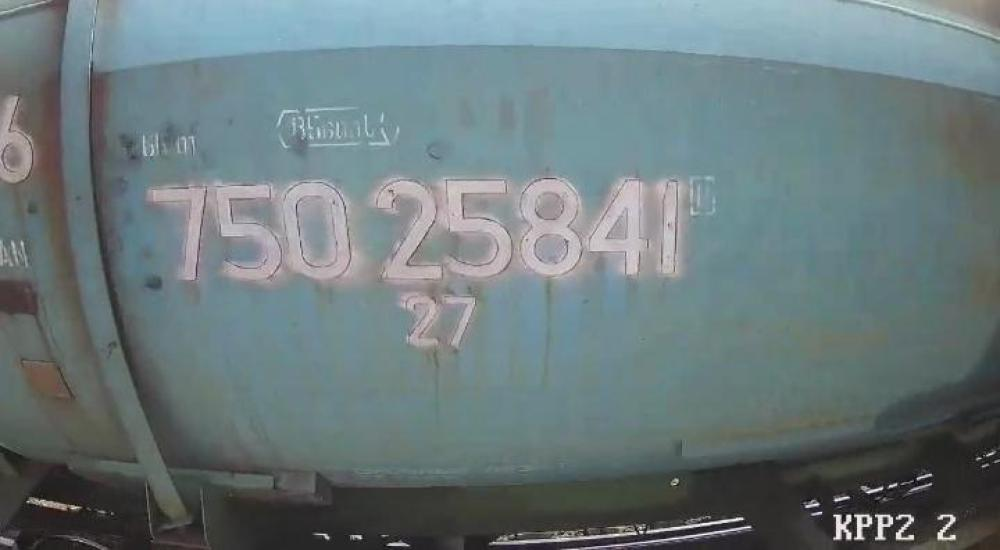Wagon-number: (140, 176, 687, 284)
